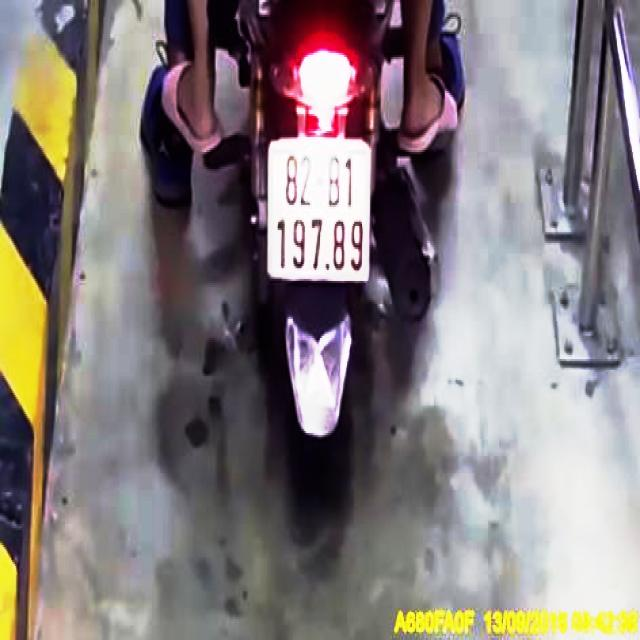license_plate: (268, 136, 370, 283)
